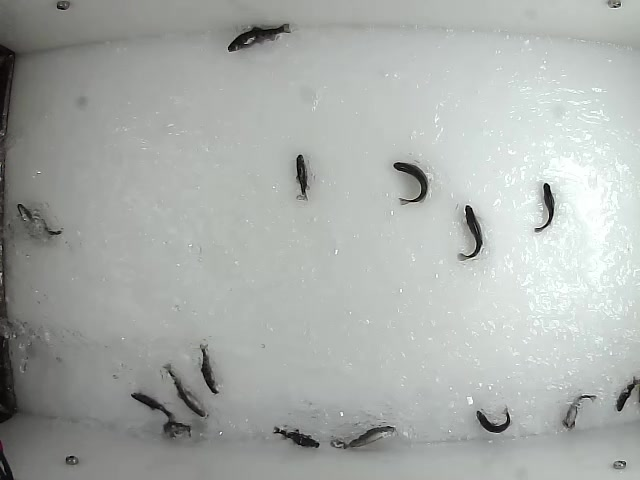fish: (163, 363, 207, 419), (225, 21, 292, 52), (390, 159, 429, 206), (16, 201, 64, 238), (329, 424, 397, 450), (454, 205, 484, 262), (559, 391, 599, 431), (531, 180, 555, 235), (270, 425, 322, 450), (199, 338, 221, 395), (130, 392, 174, 419), (474, 404, 512, 435), (613, 372, 640, 414), (294, 152, 312, 203), (162, 421, 196, 440)
